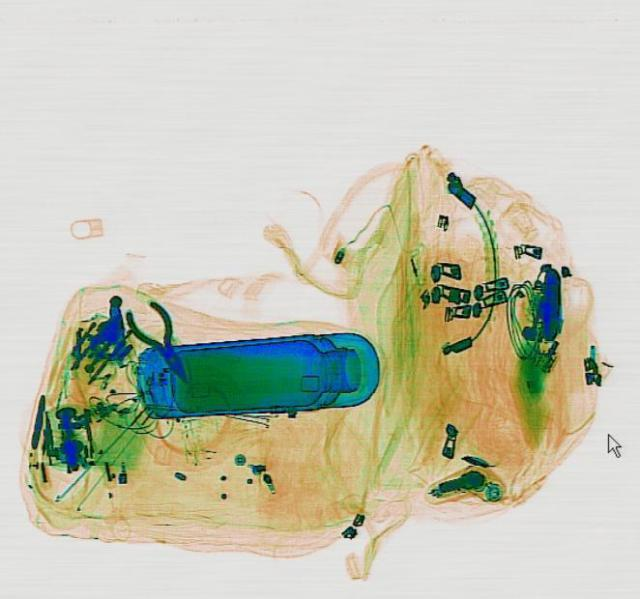Pliers: (118, 295, 205, 388)
